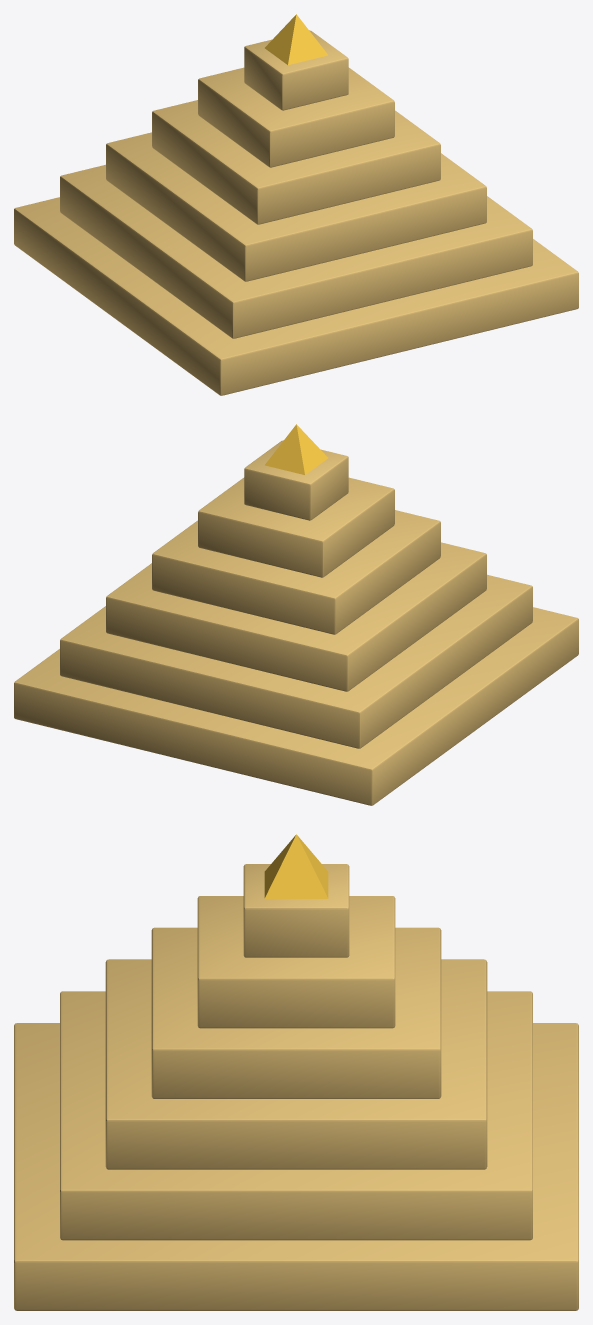
The picture shows the model from 3 angles, top to bottom: view 1: azimuth 30°, elevation 25°; view 2: azimuth 150°, elevation 25°; view 3: azimuth 270°, elevation 25°; orthographic projection. The views are drawn at different scales.
Parts seen in each view (by area): view 1: Pyramid; view 2: Pyramid; view 3: Pyramid.
Boxes of the visible parts, <box> form: Pyramid: <box>14,14,578,395</box>; Pyramid: <box>14,424,578,805</box>; Pyramid: <box>14,834,578,1310</box>.
Bounding box in the file's own units: 4000 × 2800 × 4000.
